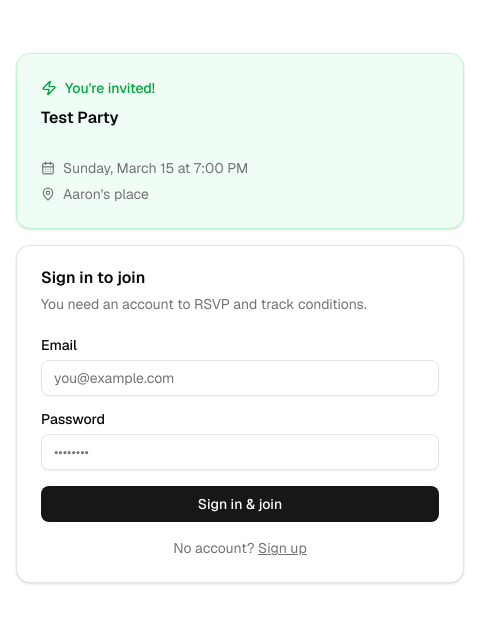
Test: ClaimInvite › signup flow › switches to signup form when toggled
Click the button "Sign up": [282, 548] box [258,538,307,558]
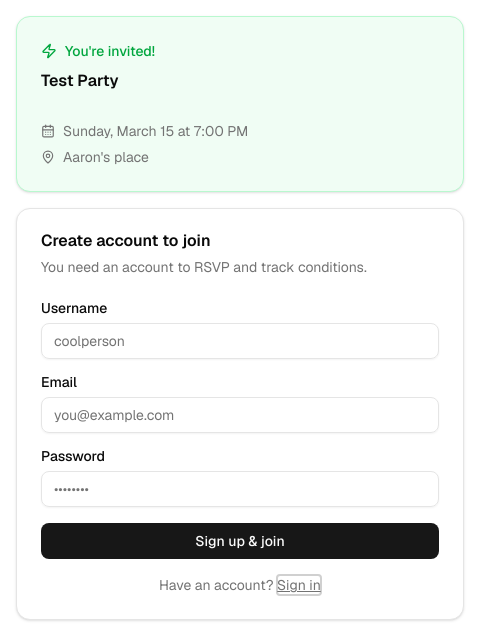
Expected: the text "Create account to join" is shown, [41,230,210,251]
Expected: the field with placeholder "coolperson" is shown, [41,323,439,359]
